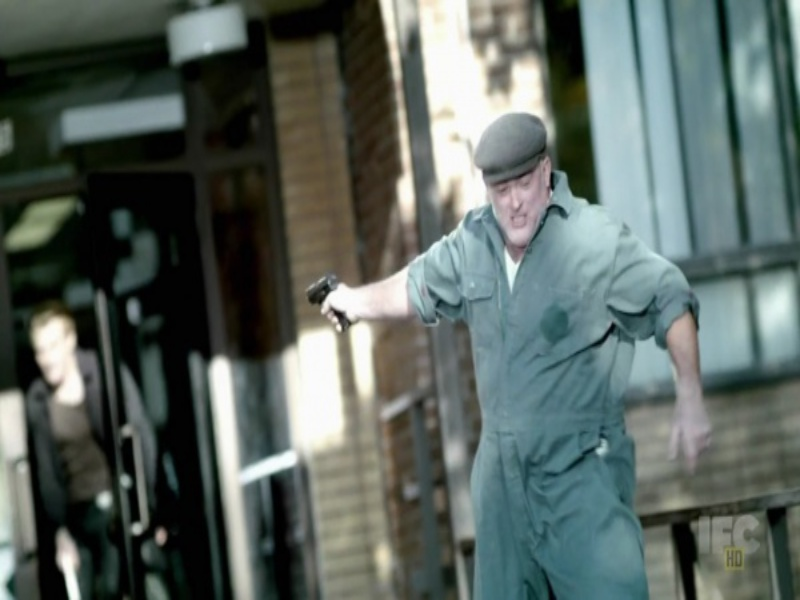person: (321, 110, 702, 596), (23, 308, 150, 592)
weapon: (305, 272, 352, 339)
